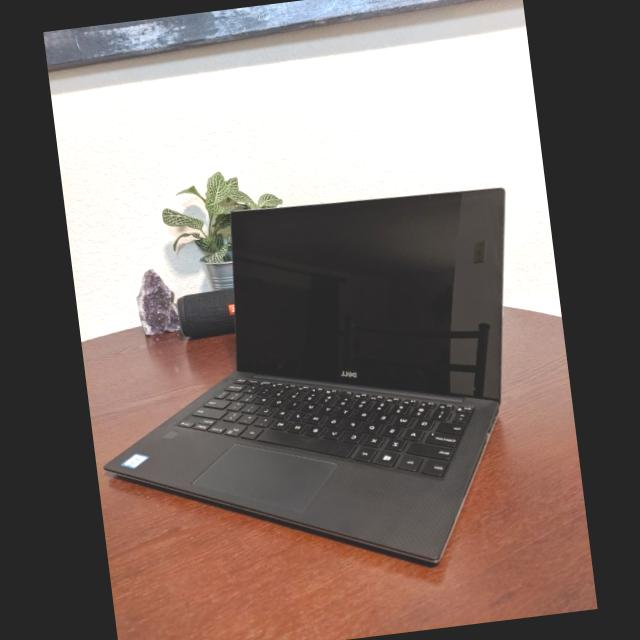laptop: (105, 189, 504, 561)
